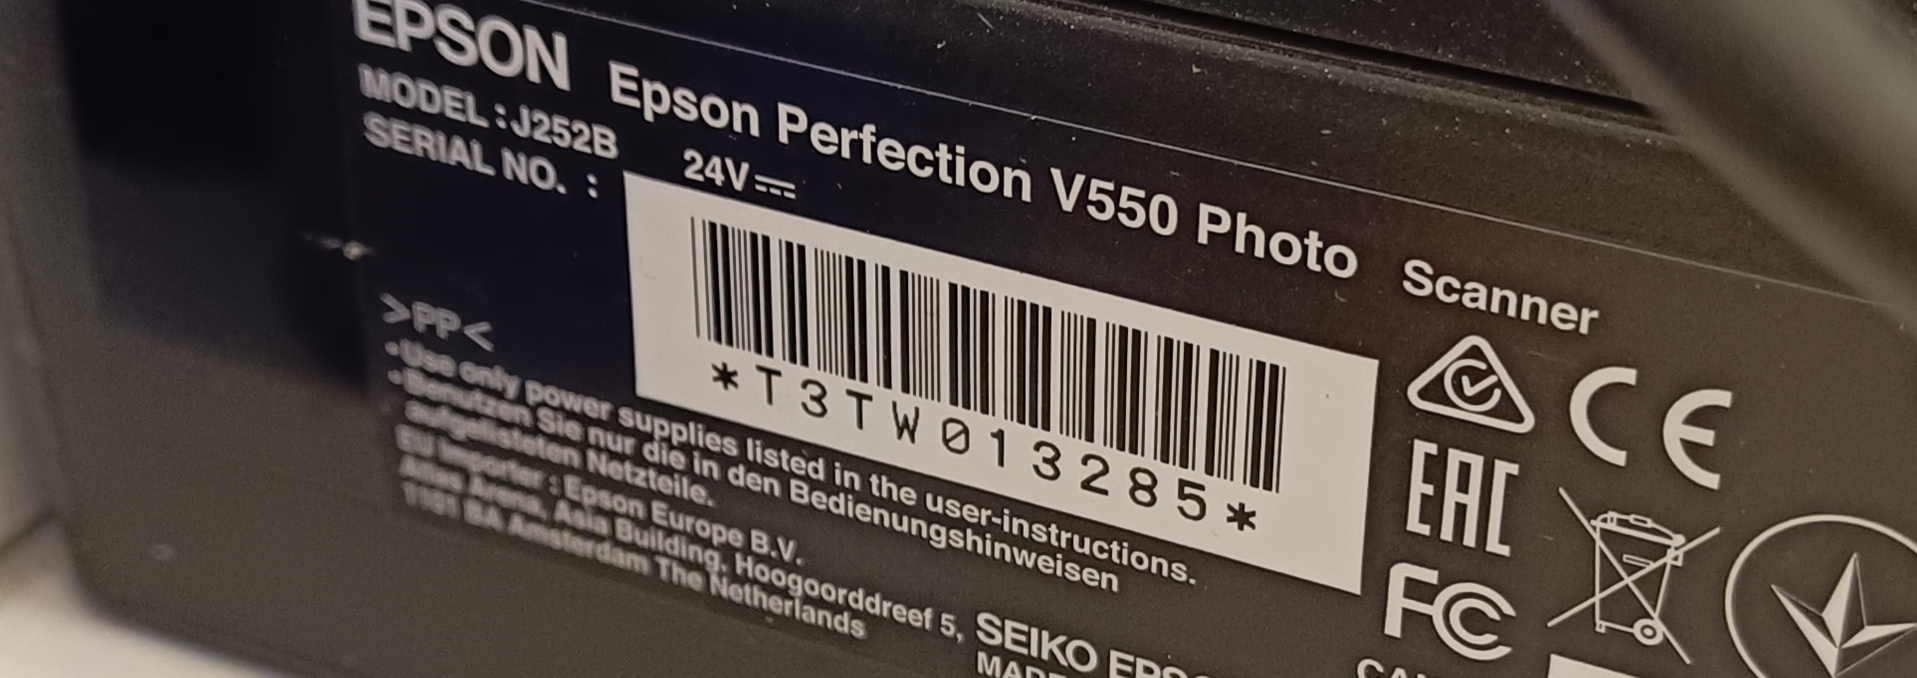1d: (679, 211, 1291, 500)
